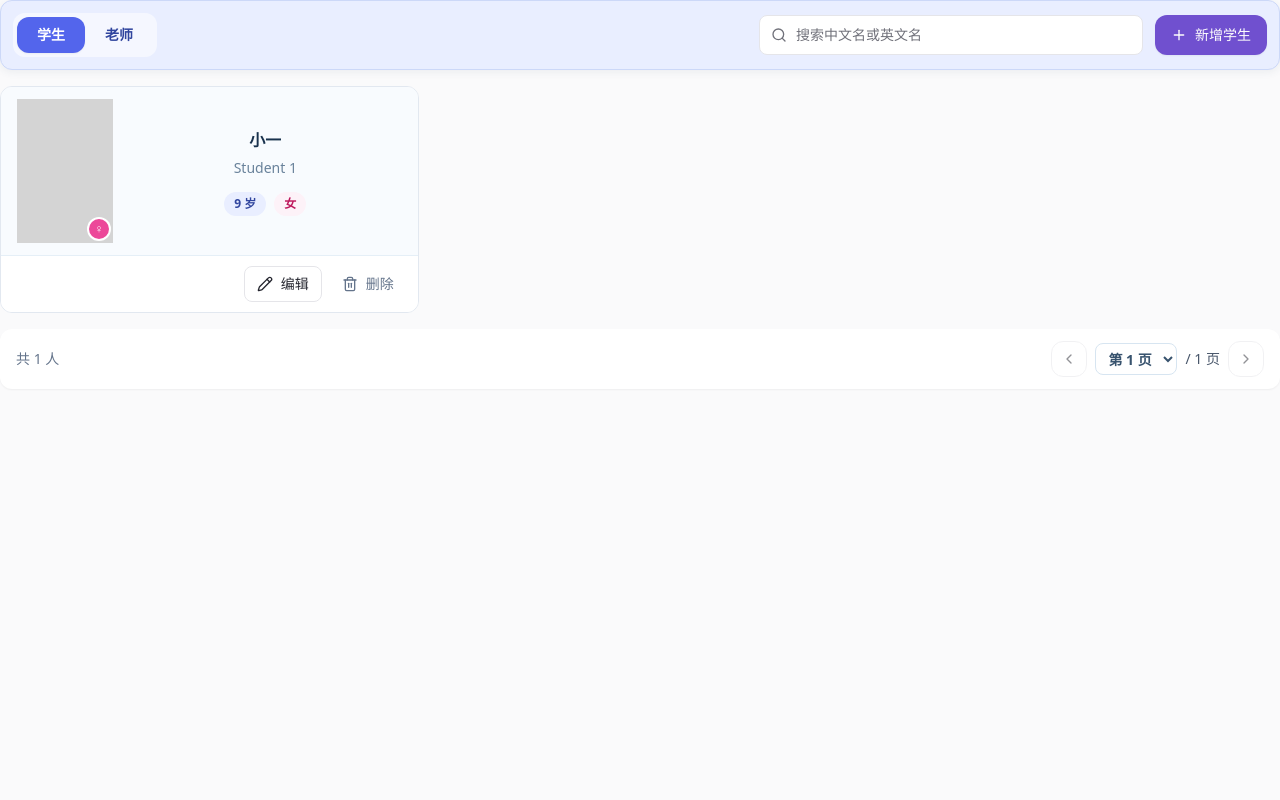
Test: PeopleManager › always shows pagination and opens an image preview from the card
Check: the heading "小一" is shown, box x1=249 y1=126 x2=281 y2=154
Check: the dropdown named "选择页码" shows "第 1 页", box x1=1096 y1=343 x2=1178 y2=375
Click the button named "查看小一大图" at (65, 171), box x1=17 y1=99 x2=113 y2=243
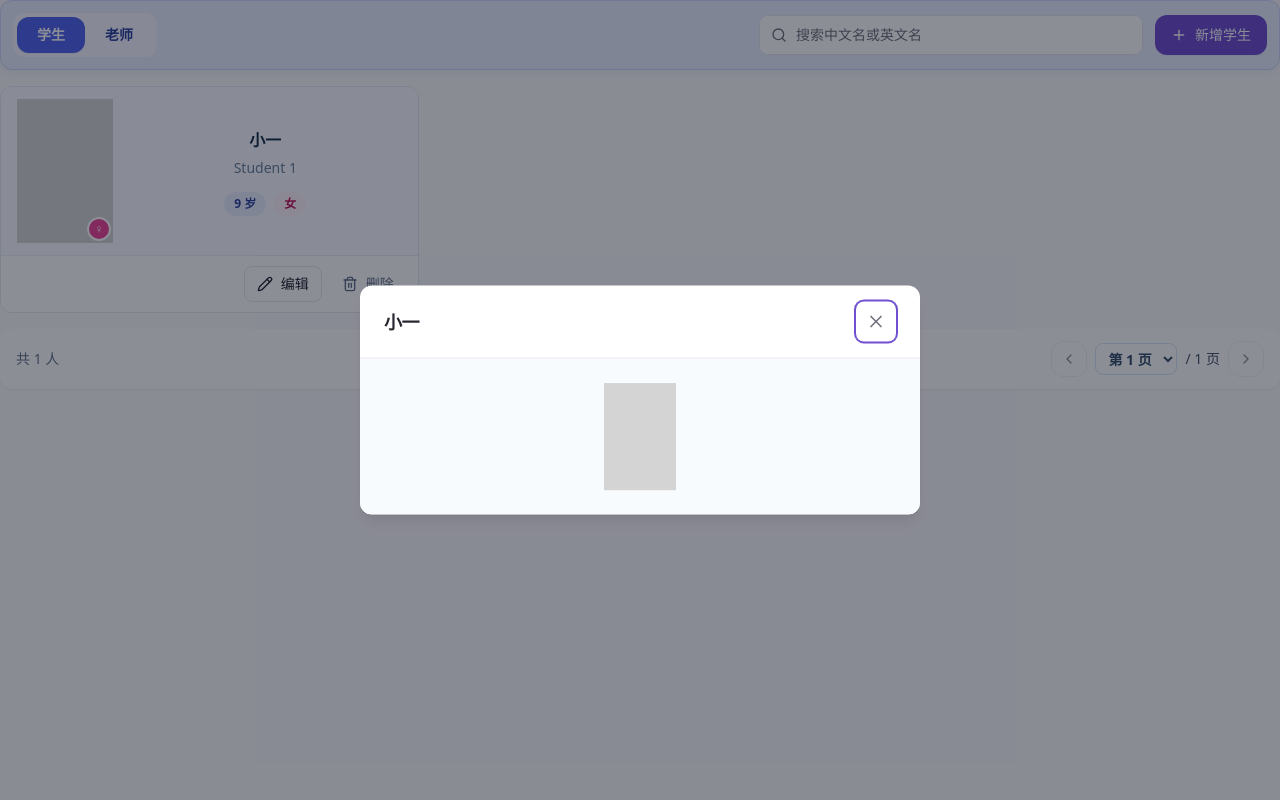
Check: the dialog "小一" is shown, box x1=360 y1=286 x2=920 y2=514
